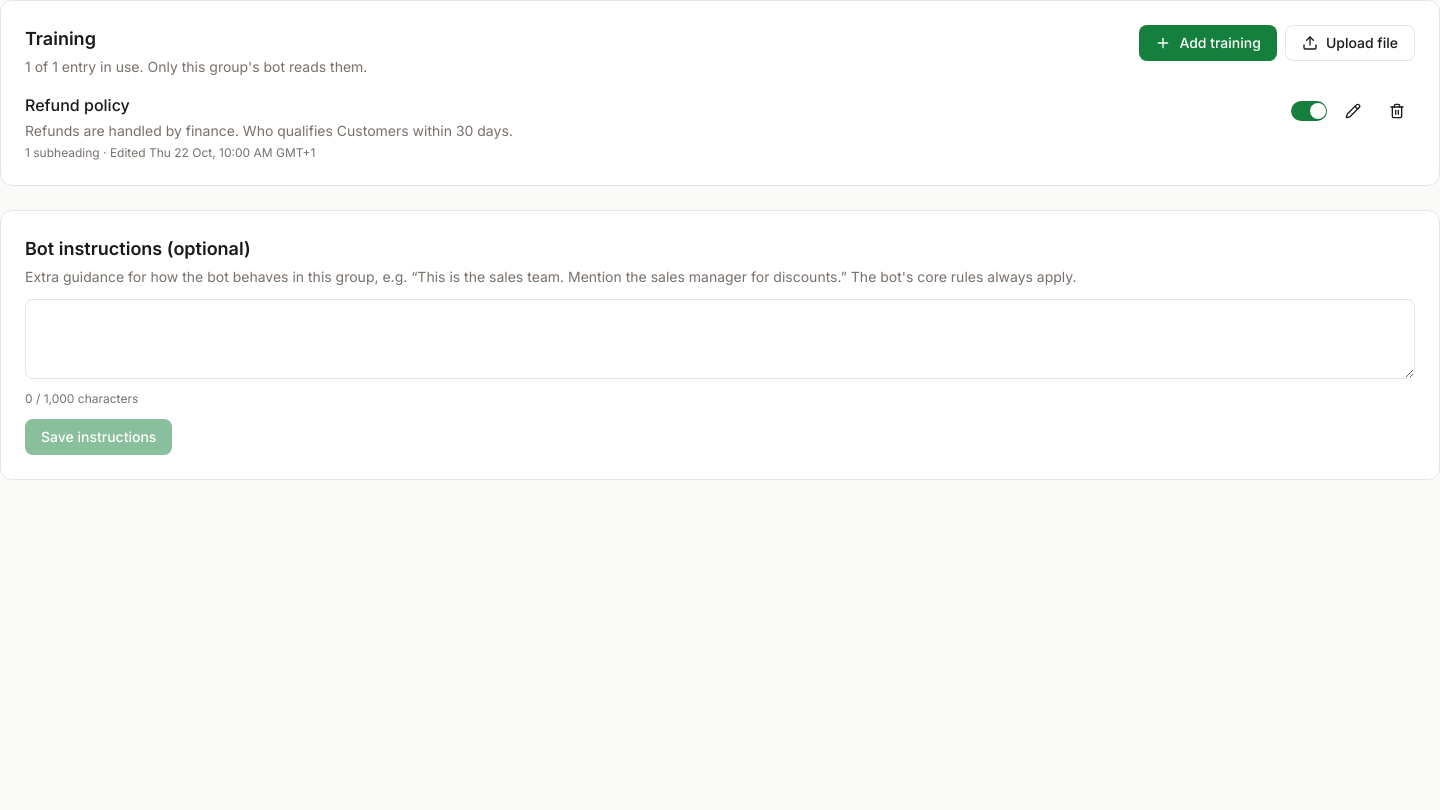
TrainTab › opens the editor with the entry split into subheadings
Click the button named "Edit “Refund policy”".
click(1353, 111)  # box [1335,93,1371,129]
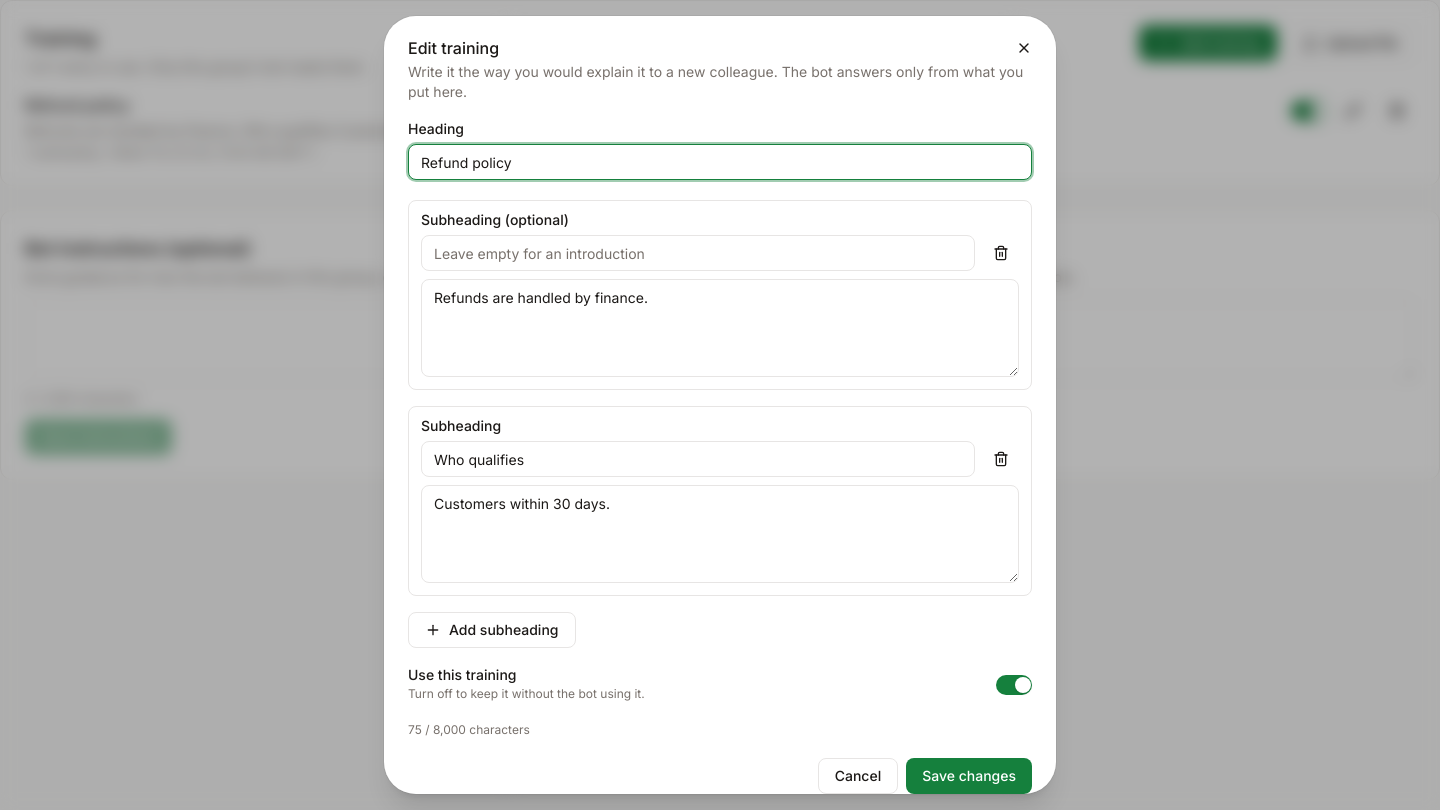
Result: the field labelled "Heading" holds "Refund policy" at [408,144,1032,180]
Result: the field showing "Who qualifies" is shown at [421,441,975,477]
Result: the 2nd text box showing "Customers within 30 days." is shown at [421,485,1019,583]
